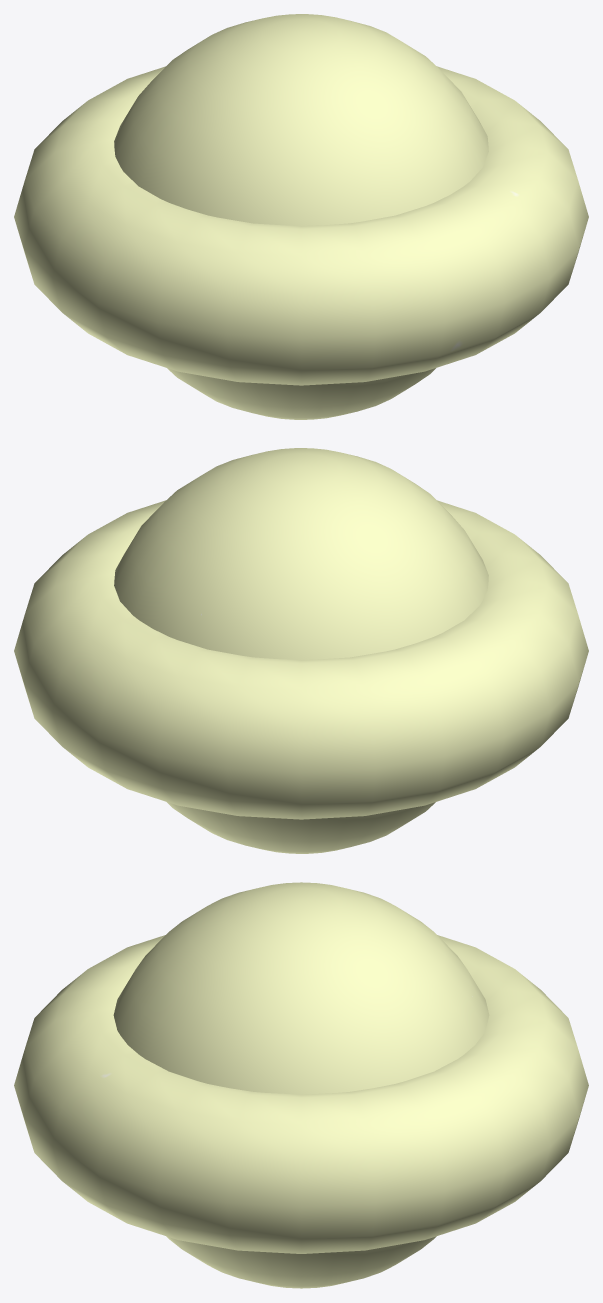
The model's file is Enemy.obj.
The picture shows the model from 3 angles, top to bottom: view 1: azimuth 30°, elevation 25°; view 2: azimuth 150°, elevation 25°; view 3: azimuth 270°, elevation 25°; orthographic projection.
Visible parts, largest first — view 1: Torus001, Sphere001; view 2: Torus001, Sphere001; view 3: Torus001, Sphere001.
Boxes of the visible parts, x1,y1,x2,y2 form: Torus001: [14, 66, 588, 385]; Sphere001: [114, 14, 488, 419]; Torus001: [14, 500, 588, 819]; Sphere001: [114, 448, 488, 853]; Torus001: [14, 935, 588, 1253]; Sphere001: [113, 882, 489, 1288].
Size of the model in its own units: 70 by 49.49 by 70.
